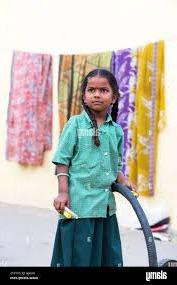Human: (46, 58, 157, 277)
